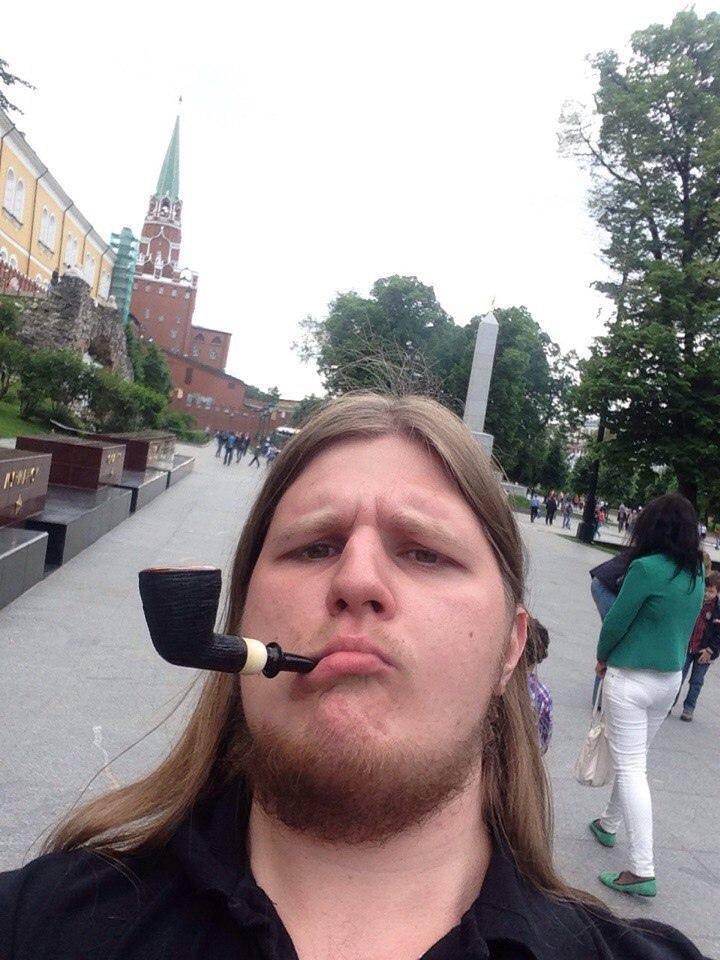trubka: (138, 568, 318, 680)
